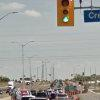Traffic light: (48, 3, 83, 36)
